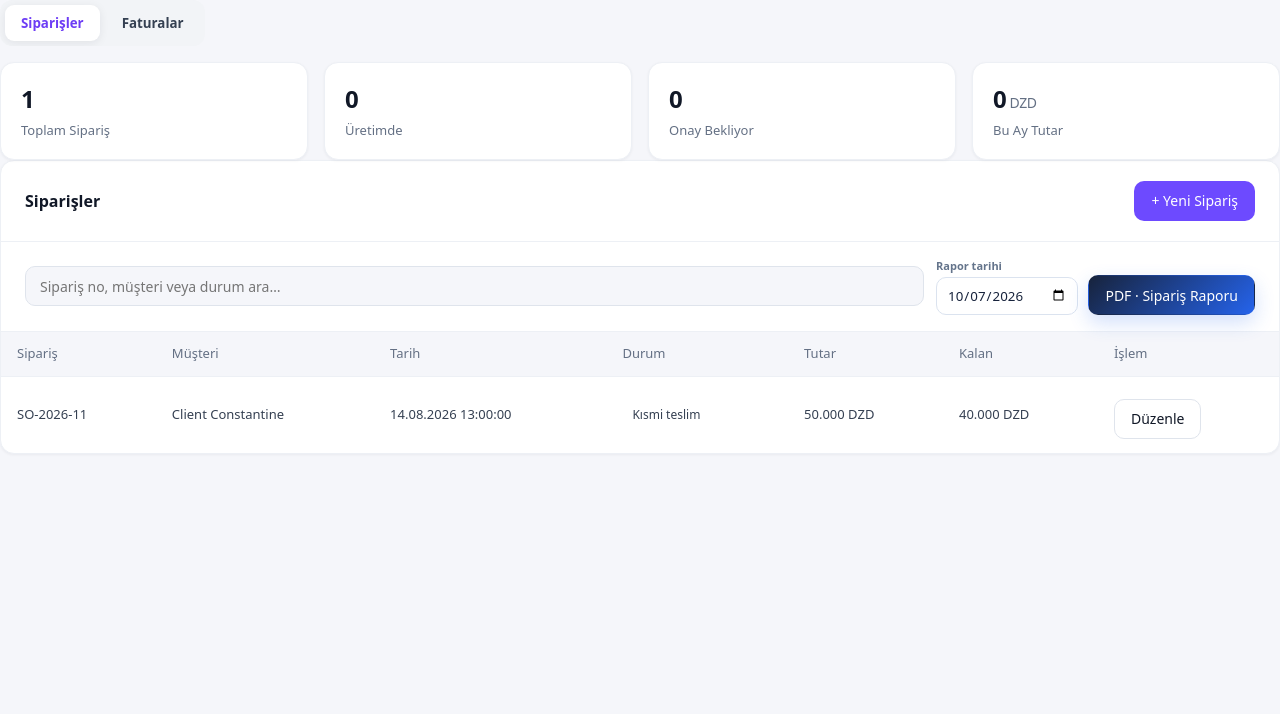
Scenario: OrdersModule localization › creates a strip order with live pricing and keeps input after a failed save
Expected: the text "SO-2026-11" is shown, [1,376,156,452]
Click the button "+ Yeni Sipariş": coordinates (1195, 200) [1134,180,1255,220]
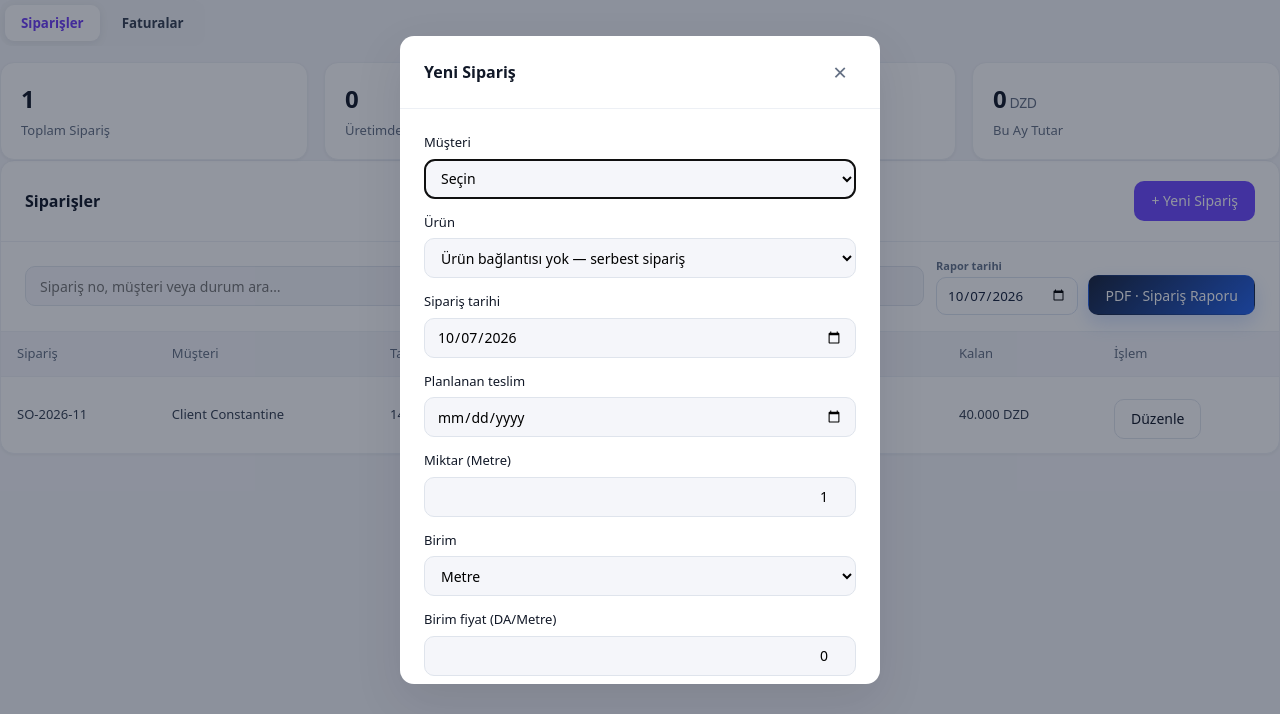
Select "Client Constantine" in the dropdown labelled "Müşteri": coordinates (640, 178) [424,158,856,198]
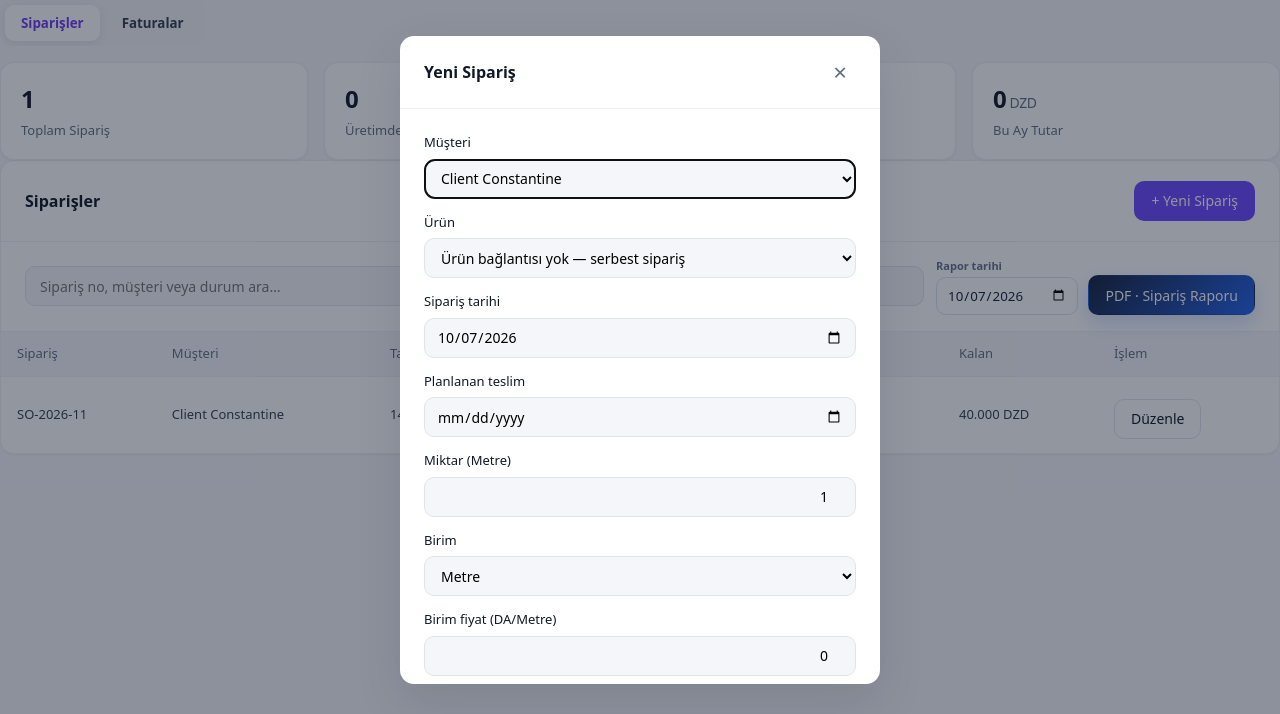
Select "STRIP · Şerit" in the dropdown labelled "Ürün": coordinates (640, 258) [424,238,856,278]
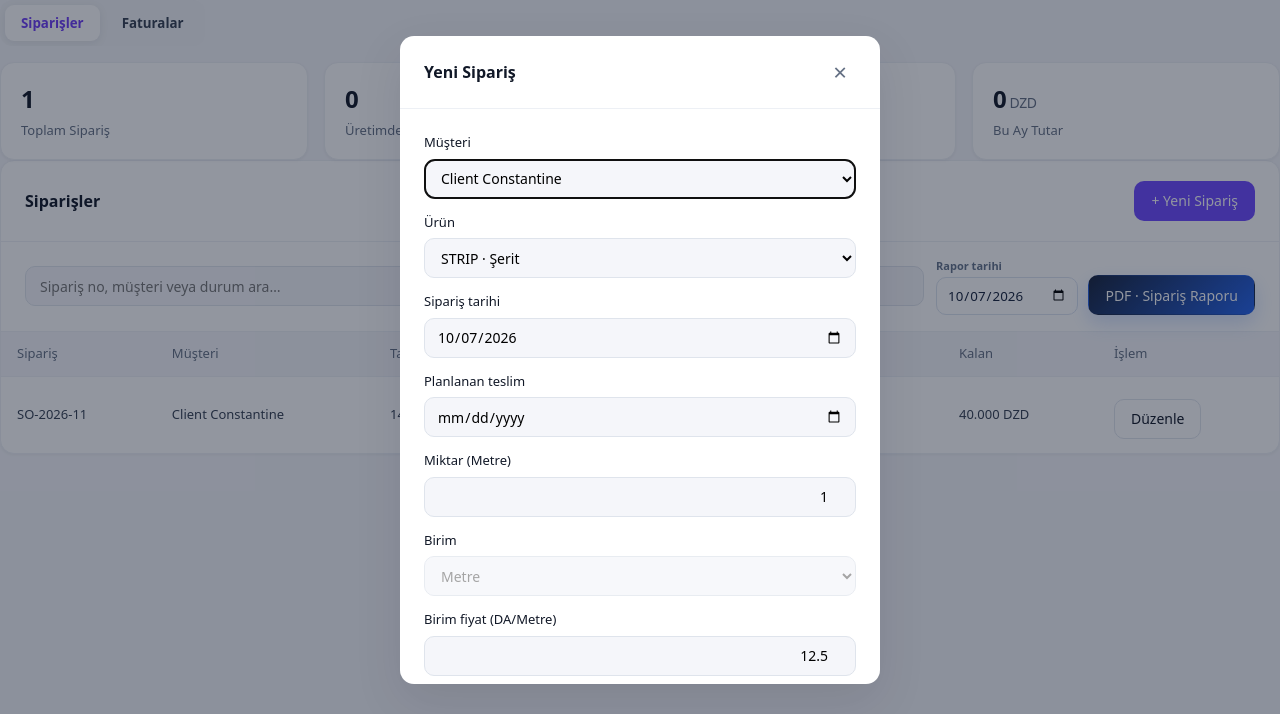
Expected: the dropdown labelled "Birim" is disabled, [424,556,856,596]
Replace the text in the number field labelled "Miktar (Metre)" with "400": coordinates (640, 496) [424,476,856,516]
(page scrolled)
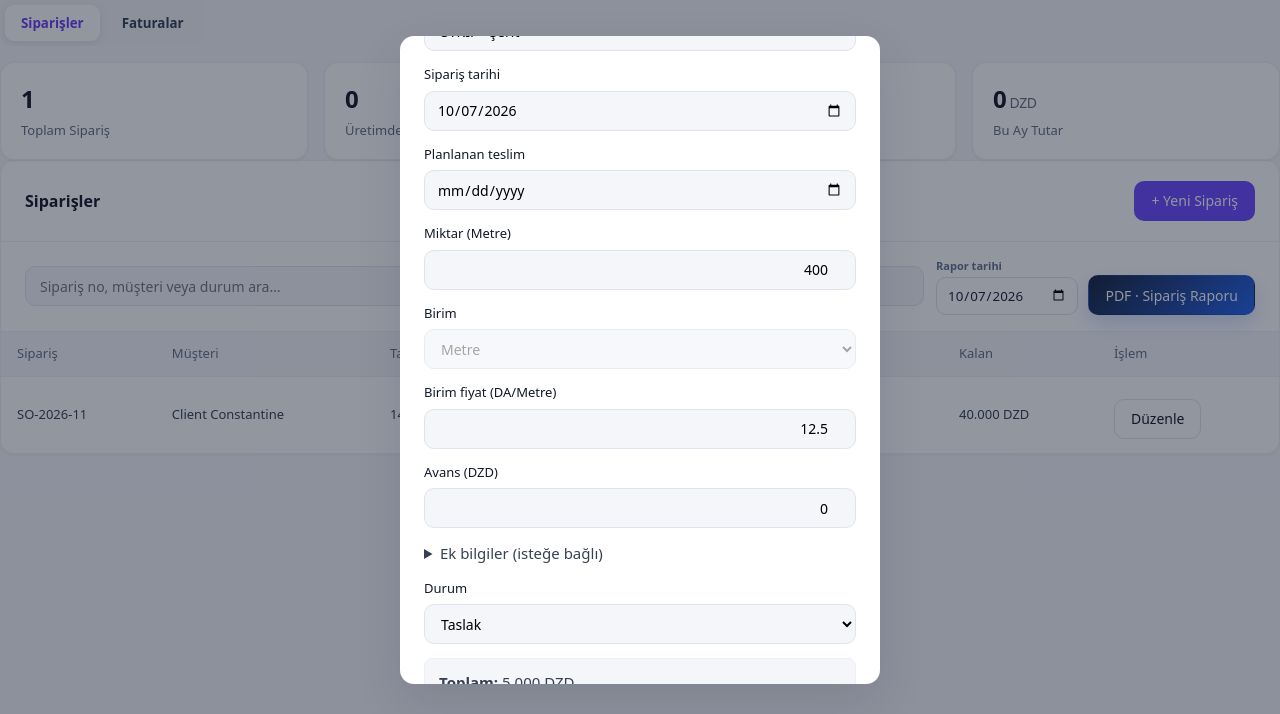
Expected: the number field labelled "Birim fiyat (DA/Metre)" holds "12.5", [424,408,856,448]
Expected: the text "5.000 DZD" is shown 2 times
Submit the form
(page scrolled)
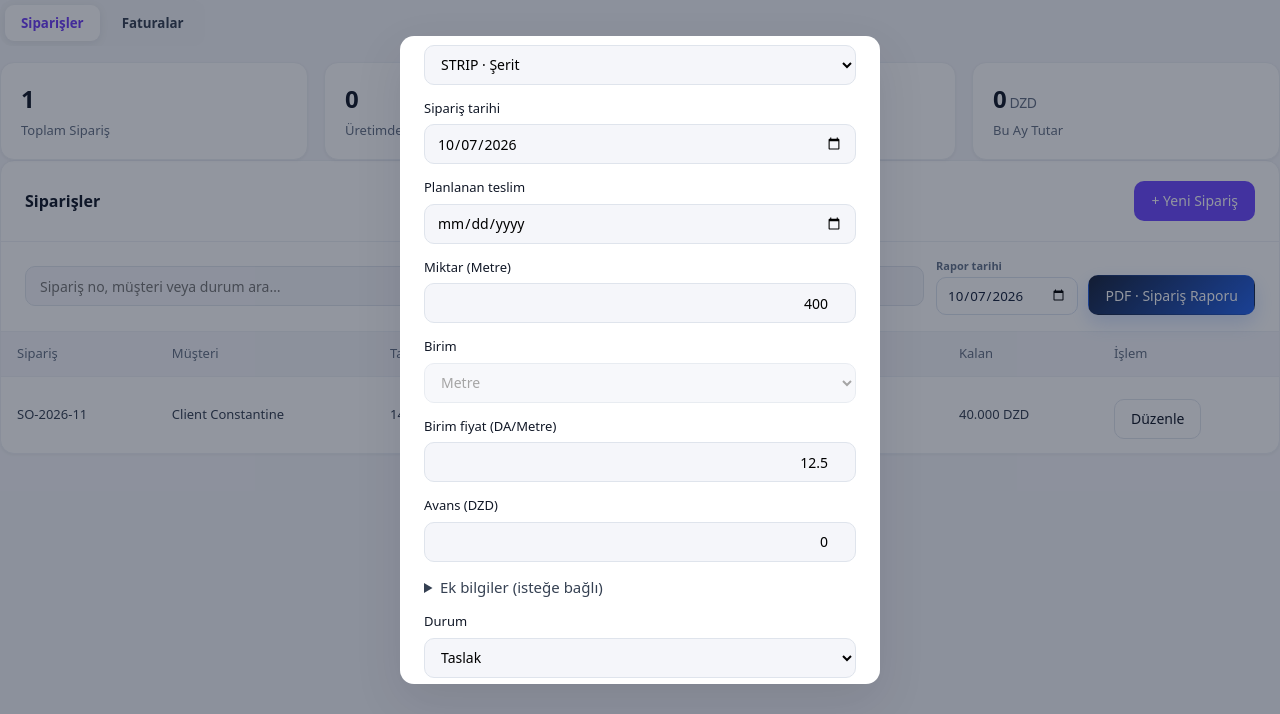
Submit the form
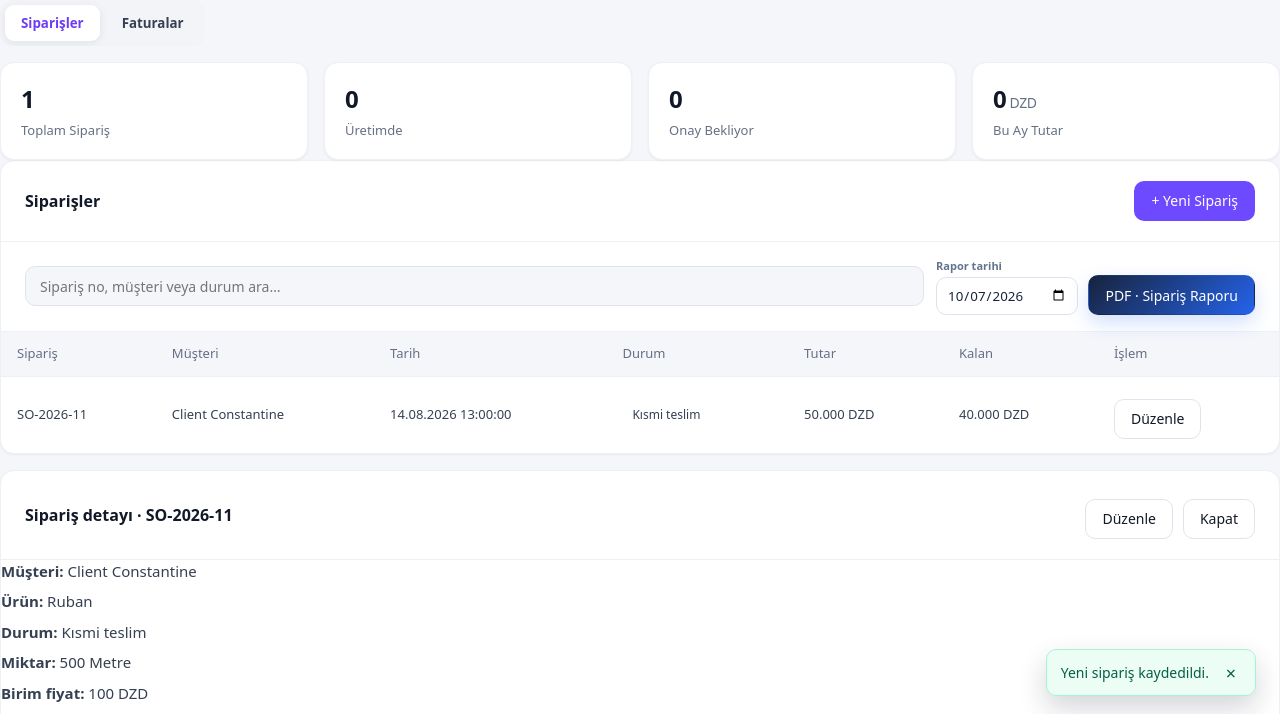
Expected: the dialog is gone
